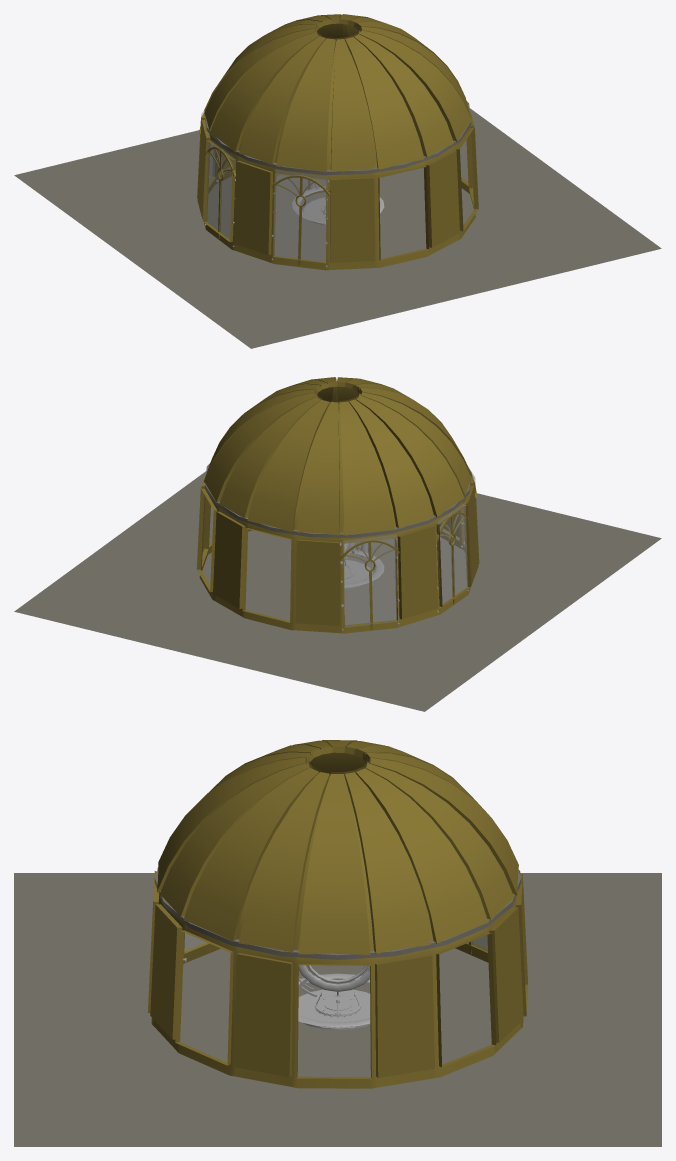
The model's file is domeV2.fbx.
3 views of the same model, one above another, from view 1: azimuth 30°, elevation 25°; view 2: azimuth 150°, elevation 25°; view 3: azimuth 270°, elevation 25° (orthographic). The views are drawn at different scales.
Visible parts, largest first — view 1: domeFloor, domeWalls, pCube23 (×2), pCylinder3, pCube19 (×2); view 2: domeFloor, domeWalls, pCube23 (×2), pCube19 (×2), pCylinder3; view 3: domeFloor, domeWalls, pCylinder3, pCylinder12, pTorus4, pTorus5.
Part boxes in pixels (x1=…): domeFloor: x1=14, y1=108, x2=661, y2=348; domeWalls: x1=197, y1=14, x2=478, y2=270; pCube23 (×2): x1=206, y1=137, x2=328, y2=263; pCylinder3: x1=204, y1=101, x2=471, y2=174; pCube19 (×2): x1=205, y1=147, x2=330, y2=264; domeFloor: x1=14, y1=471, x2=661, y2=711; domeWalls: x1=196, y1=377, x2=479, y2=633; pCube23 (×2): x1=343, y1=502, x2=467, y2=627; pCube19 (×2): x1=340, y1=512, x2=468, y2=629; pCylinder3: x1=204, y1=463, x2=471, y2=538; domeFloor: x1=14, y1=873, x2=661, y2=1146; domeWalls: x1=147, y1=740, x2=528, y2=1088; pCylinder3: x1=154, y1=869, x2=521, y2=959; pCylinder12: x1=298, y1=989, x2=370, y2=1029; pTorus4: x1=298, y1=973, x2=370, y2=1027; pTorus5: x1=299, y1=965, x2=369, y2=991.
Size of the model in its own units: 101 by 50.95 by 101.
